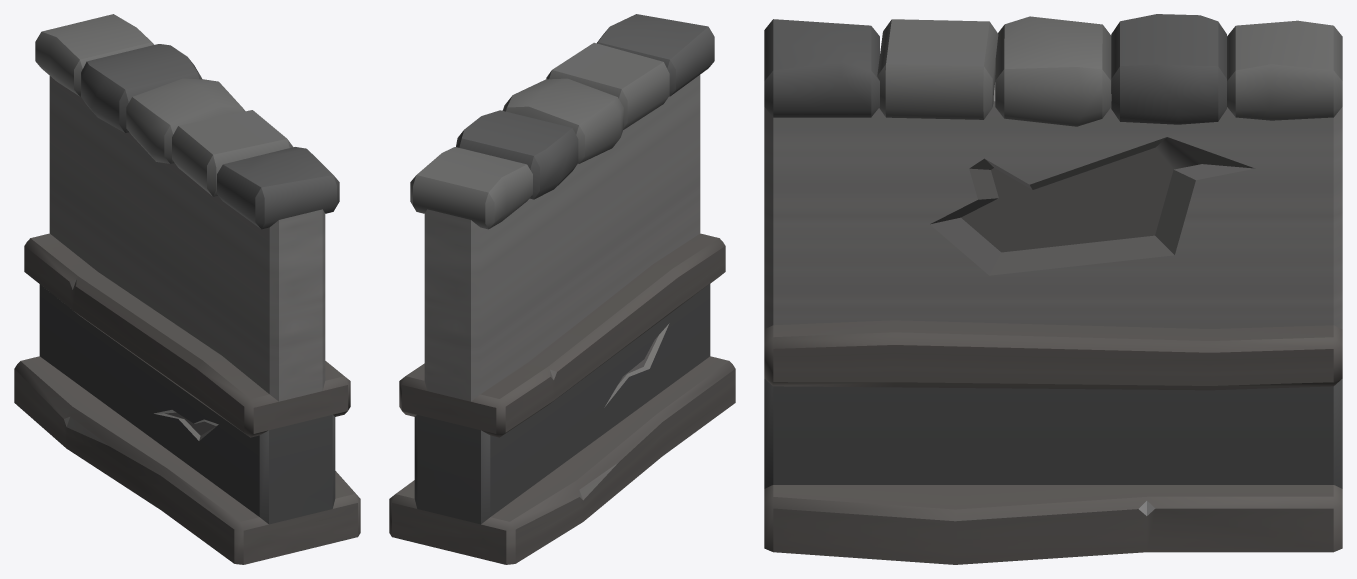
The model's file is Wall_1_3.glb.
The picture shows the model from 3 angles, left to right: view 1: azimuth 30°, elevation 25°; view 2: azimuth 150°, elevation 25°; view 3: azimuth 270°, elevation 25°; orthographic projection. The views are drawn at different scales.
Visible parts, largest first — view 1: Wall_1_3; view 2: Wall_1_3; view 3: Wall_1_3.
Part boxes in pixels (box(x1,y1,x2,y2)): Wall_1_3: box(14, 14, 360, 564); Wall_1_3: box(389, 14, 735, 564); Wall_1_3: box(764, 14, 1342, 564).
Size of the model in its own units: 0.7661 by 1.78 by 1.95.
Materials: 1 (1 with a texture image).
